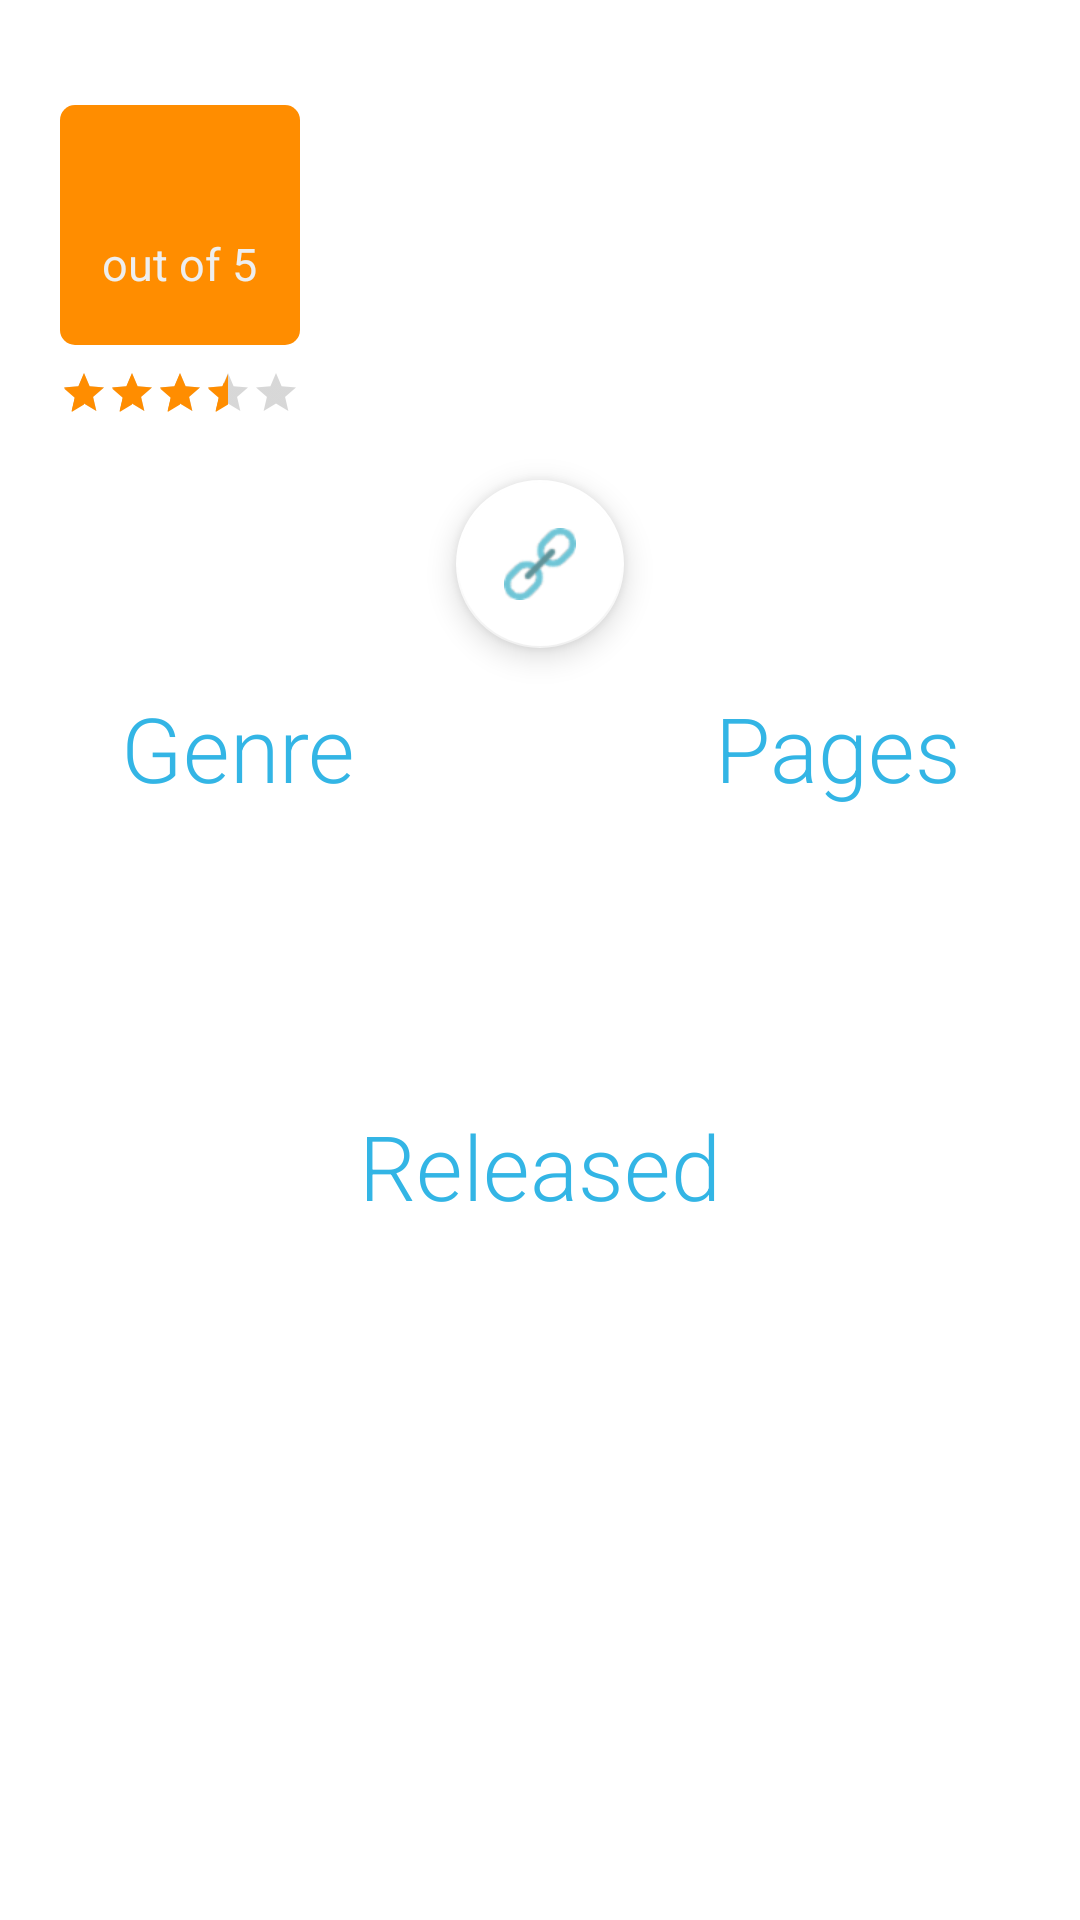

Locate icon controls on the screen. Image size 1080 × 1920, boxes as detection(x1, y1, x2, y2).
book review link: detection(457, 528, 623, 648)
